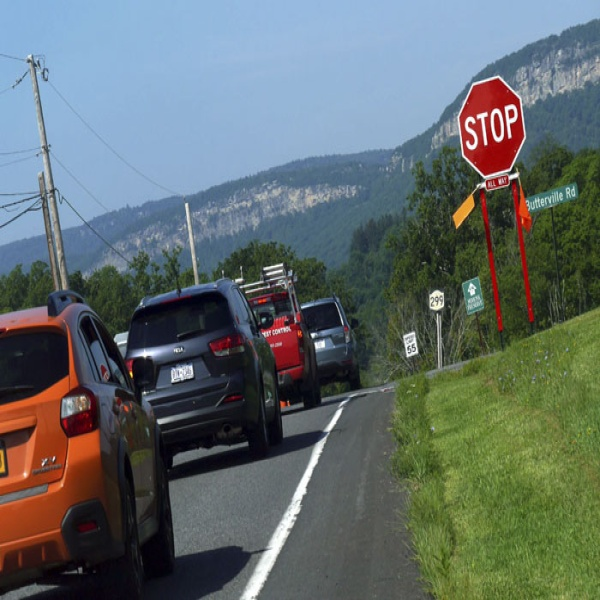stop: (458, 73, 528, 178)
